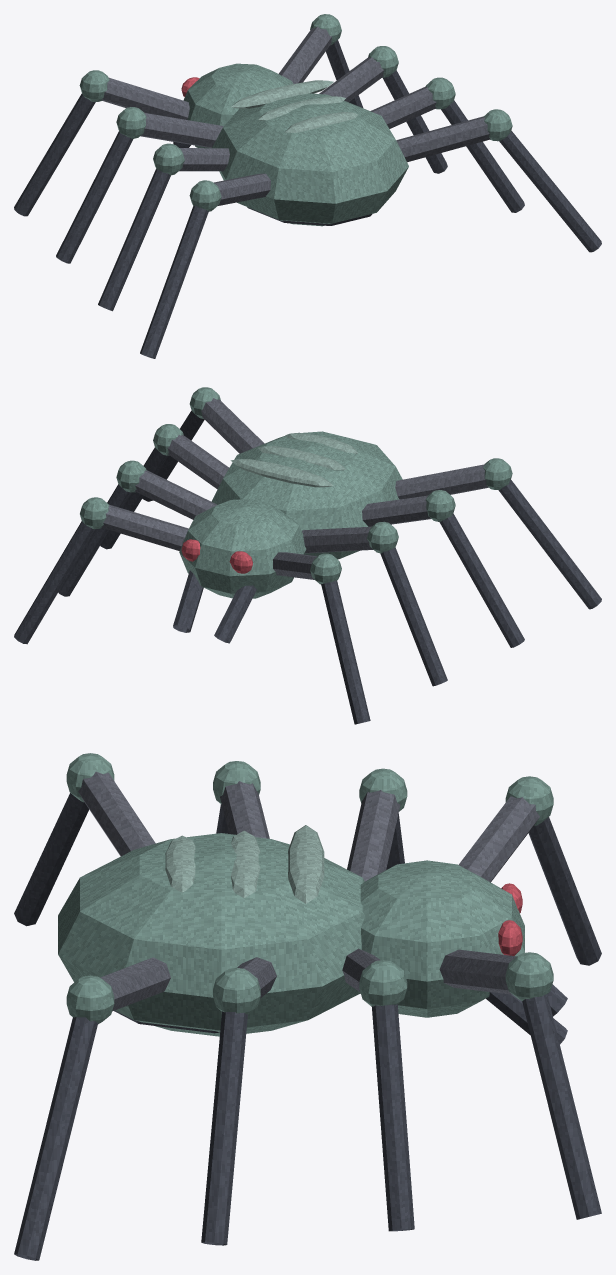
Rendered from spider_scout.glb.
3 views of the same model, one above another, from view 1: azimuth 30°, elevation 25°; view 2: azimuth 150°, elevation 25°; view 3: azimuth 270°, elevation 25° (orthographic). The views are drawn at different scales.
Bounding box in the file's own units: 2.8 × 0.8864 × 1.98.
Materials: 5 (5 with a texture image).
